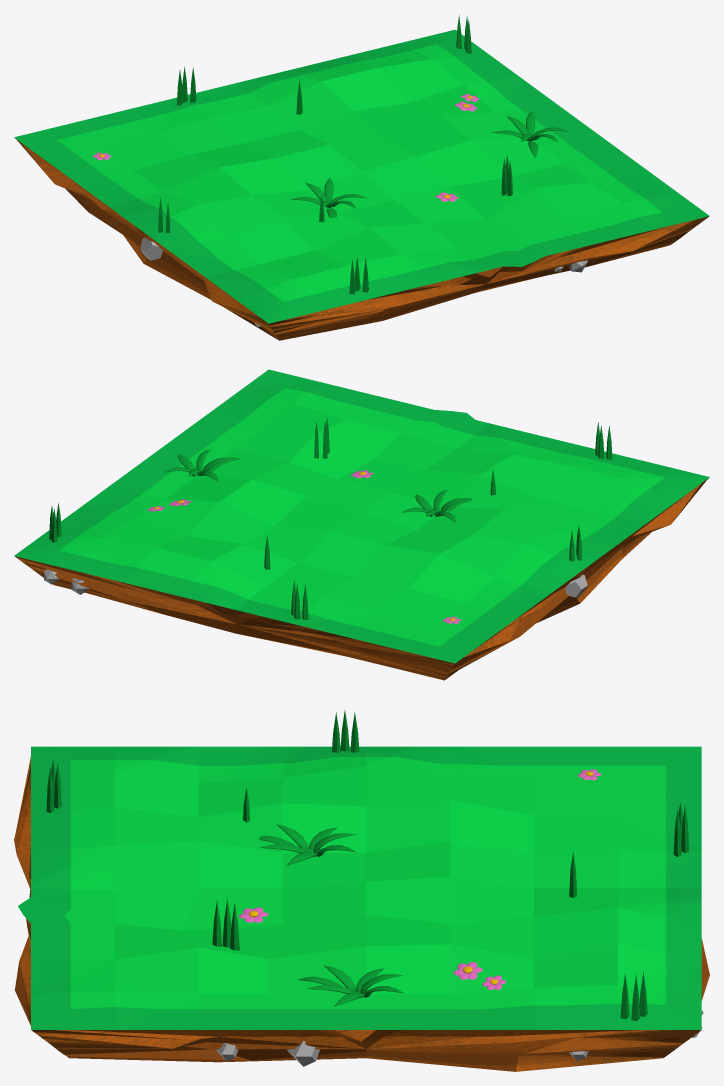
Rendered from grassflowerpink.fbx.
3 views of the same model, one above another, from view 1: azimuth 30°, elevation 25°; view 2: azimuth 150°, elevation 25°; view 3: azimuth 270°, elevation 25° (orthographic). The views are drawn at different scales.
Parts seen in each view (by area): view 1: pCube1, GrassesGRPpolySurface482, GrassesGRPpolySurface493; view 2: pCube1, GrassesGRPpolySurface482, GrassesGRPpolySurface493; view 3: pCube1, GrassesGRPpolySurface482, GrassesGRPpolySurface493.
Part boxes in pixels (bbox=[...]): pCube1: bbox=[14, 30, 709, 340]; GrassesGRPpolySurface482: bbox=[492, 111, 569, 157]; GrassesGRPpolySurface493: bbox=[290, 178, 368, 217]; pCube1: bbox=[14, 369, 709, 680]; GrassesGRPpolySurface482: bbox=[164, 449, 240, 482]; GrassesGRPpolySurface493: bbox=[401, 490, 471, 522]; pCube1: bbox=[14, 746, 709, 1071]; GrassesGRPpolySurface482: bbox=[297, 965, 403, 1006]; GrassesGRPpolySurface493: bbox=[259, 824, 356, 865].
Bounding box in the file's own units: 101 × 14.79 × 102.
6 materials, 2 textured.
